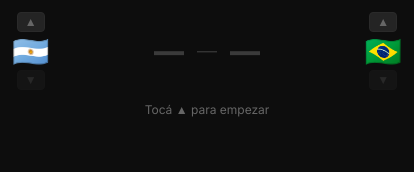
Test: PredictionInput › incrementa el score local al hacer click en ▲ del equipo local
Click the button named "Aumentar" at (31, 22), box x1=17 y1=12 x2=45 y2=32
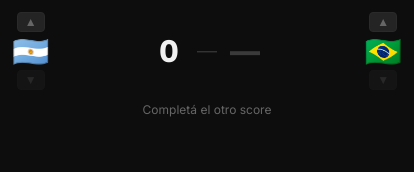
Check: the text "0" is shown, box x1=159 y1=33 x2=179 y2=69
